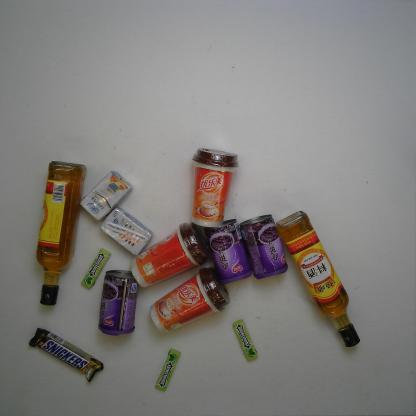Canned Food: (238, 212, 290, 281), (203, 218, 255, 286), (96, 268, 138, 338)
Chocolate: (26, 325, 106, 386)
Gum: (153, 346, 183, 394), (80, 247, 112, 291), (230, 317, 260, 363)
Instant Drink: (128, 219, 213, 290), (148, 265, 233, 333), (188, 144, 241, 229)
Milk: (98, 204, 155, 258), (78, 168, 134, 222)
Seasoner: (274, 208, 364, 349), (32, 156, 90, 309)
